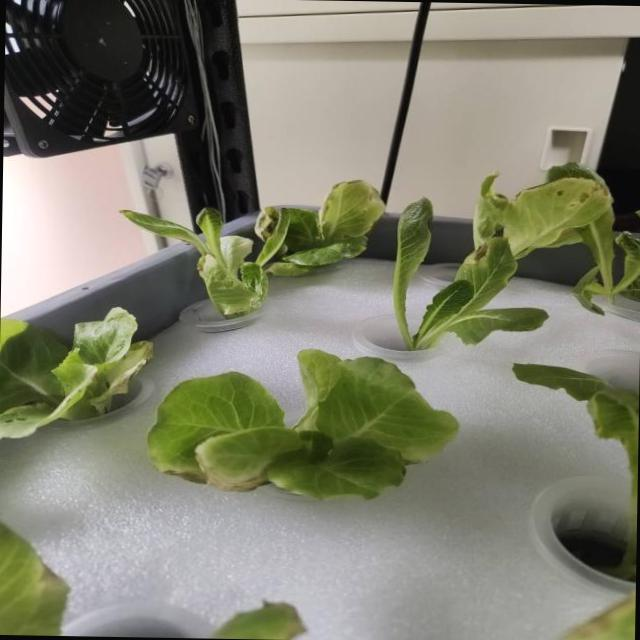Lettuce-Not-Ready-to-Harvest: (148, 350, 456, 497), (512, 363, 639, 575), (392, 198, 547, 349), (0, 306, 153, 437), (122, 208, 290, 318), (473, 171, 610, 261), (266, 179, 384, 274), (0, 523, 69, 635), (572, 206, 640, 314), (561, 593, 635, 640), (213, 602, 305, 639), (546, 163, 607, 189), (255, 208, 275, 239)
